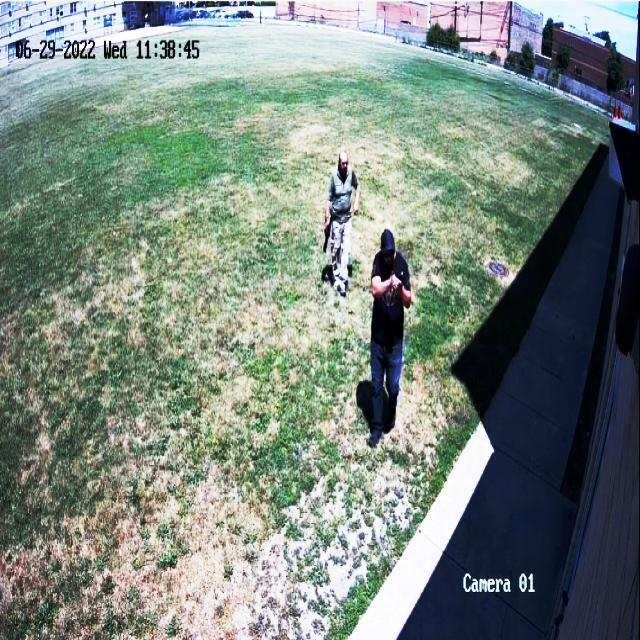Gun: (381, 265, 408, 300), (319, 219, 336, 257)
